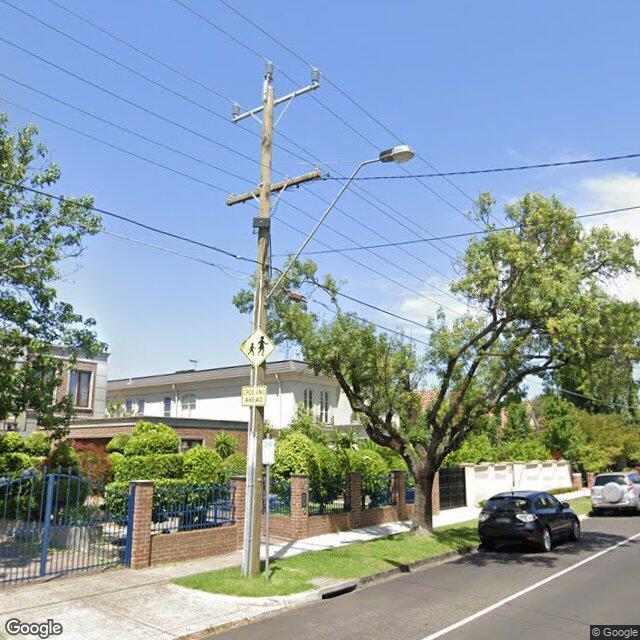HV-transmission: (232, 60, 320, 116)
crossarm: (226, 170, 322, 206), (232, 84, 319, 123)
streetlight: (264, 146, 416, 306)
timber-pole: (244, 86, 274, 578)
